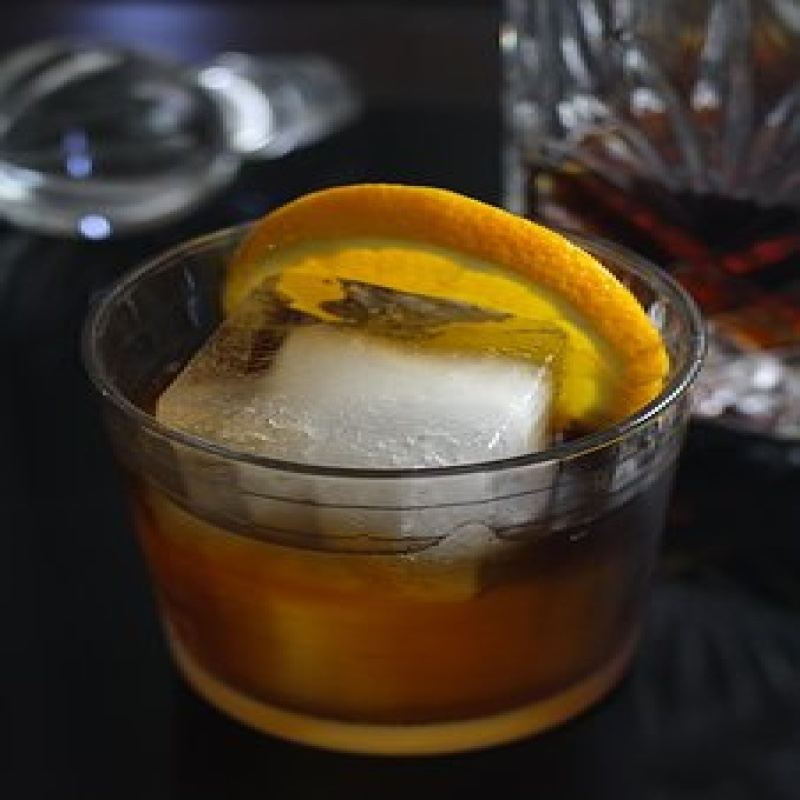whiskey: (95, 192, 708, 752)
